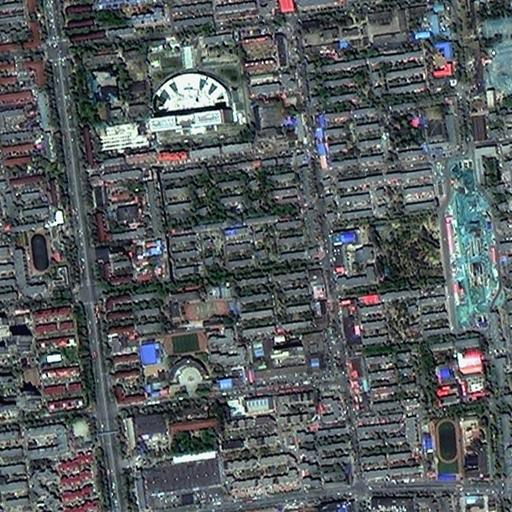school: (428, 411, 491, 485), (23, 221, 73, 290), (166, 287, 236, 323)
